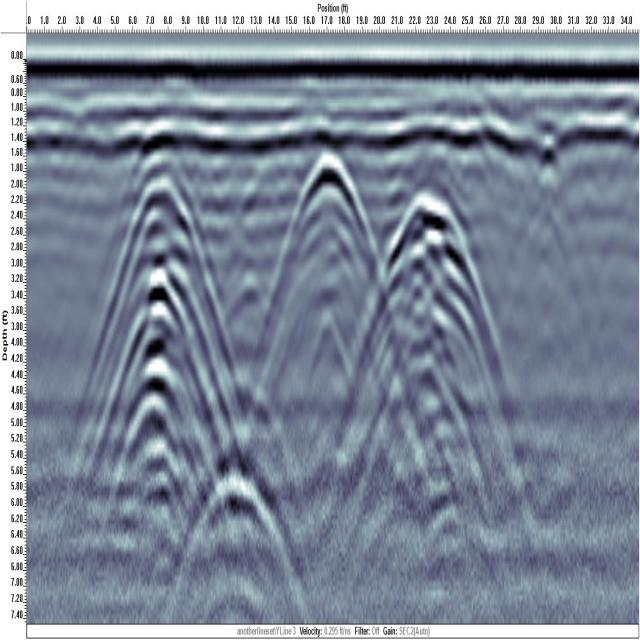hyperbola: (105, 168, 234, 455), (278, 140, 382, 330)
